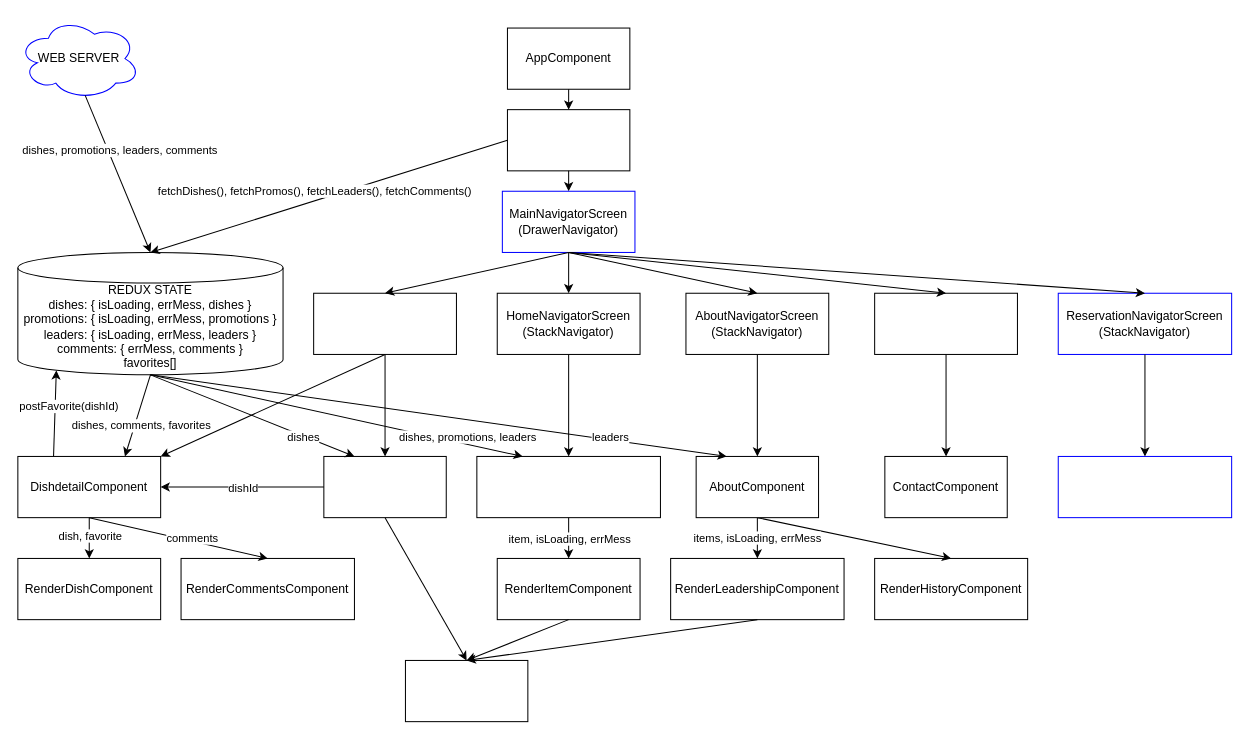
Image size: 1250x740. Some labels were removed from this diagram. The shapes that lost their labels are listed below. From the top down, each one's centre as x and y in pixels, then its label:
At pixel 568 140: "MainComponent".
At pixel 384 323: "MenuNavigatorScreen (StackNavigator)".
At pixel 945 323: "ContactNavigatorScreen (StackNavigator)".
At pixel 384 486: "MenuComponent".
At pixel 568 486: "HomeComponent".
At pixel 1144 486: "ReservationComponent { guests, smoking, date, showDatePicker }".
At pixel 466 690: "LoadingComponent".
